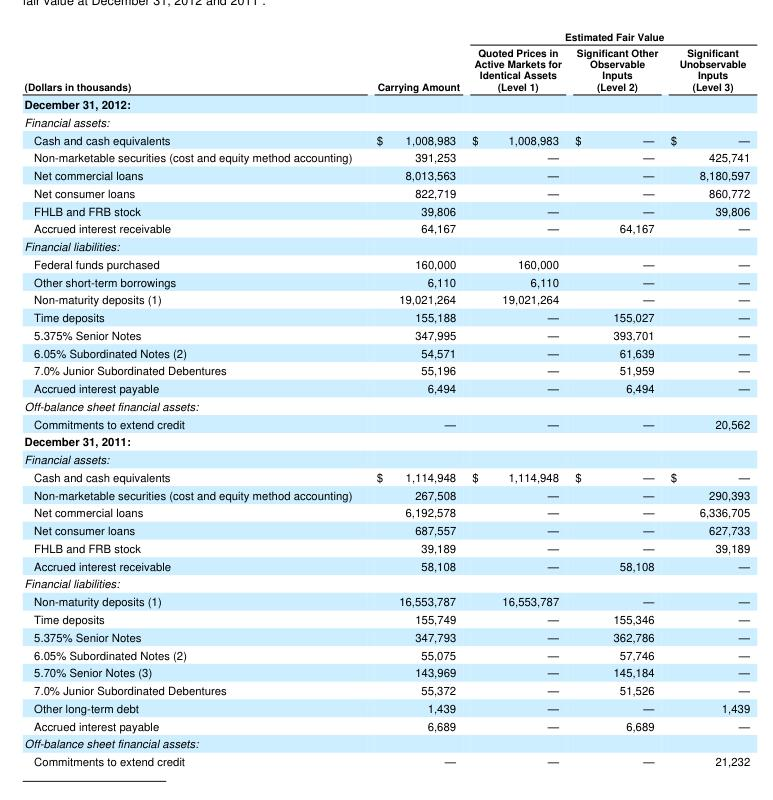table: (23, 28, 749, 768)
table column: (23, 28, 363, 768), (363, 28, 465, 768), (465, 28, 567, 768), (567, 28, 663, 768), (663, 28, 749, 768)
table column header: (23, 28, 749, 94)
table projected row header: (23, 94, 749, 112), (23, 112, 749, 130), (23, 236, 749, 254), (23, 396, 749, 414), (23, 432, 749, 450), (23, 450, 749, 467), (23, 574, 749, 591), (23, 734, 749, 751)
table row: (23, 43, 749, 94), (23, 94, 749, 112), (23, 112, 749, 130), (23, 147, 749, 165), (23, 165, 749, 183), (23, 183, 749, 201), (23, 201, 749, 219), (23, 236, 749, 254), (23, 254, 749, 272), (23, 272, 749, 290), (23, 307, 749, 325), (23, 325, 749, 343), (23, 343, 749, 361), (23, 378, 749, 396), (23, 396, 749, 414), (23, 414, 749, 432), (23, 432, 749, 450), (23, 467, 749, 485), (23, 485, 749, 503), (23, 520, 749, 538), (23, 538, 749, 556), (23, 556, 749, 574), (23, 591, 749, 609), (23, 609, 749, 627), (23, 627, 749, 645), (23, 662, 749, 680), (23, 680, 749, 698), (23, 698, 749, 716), (23, 716, 749, 734), (23, 130, 749, 147), (23, 219, 749, 236), (23, 290, 749, 307), (23, 361, 749, 378), (23, 450, 749, 467), (23, 503, 749, 520), (23, 574, 749, 591), (23, 645, 749, 662), (23, 734, 749, 751), (23, 751, 749, 768), (23, 28, 749, 43)
table spanning cell: (23, 28, 363, 94), (363, 28, 465, 94), (465, 28, 749, 43)
